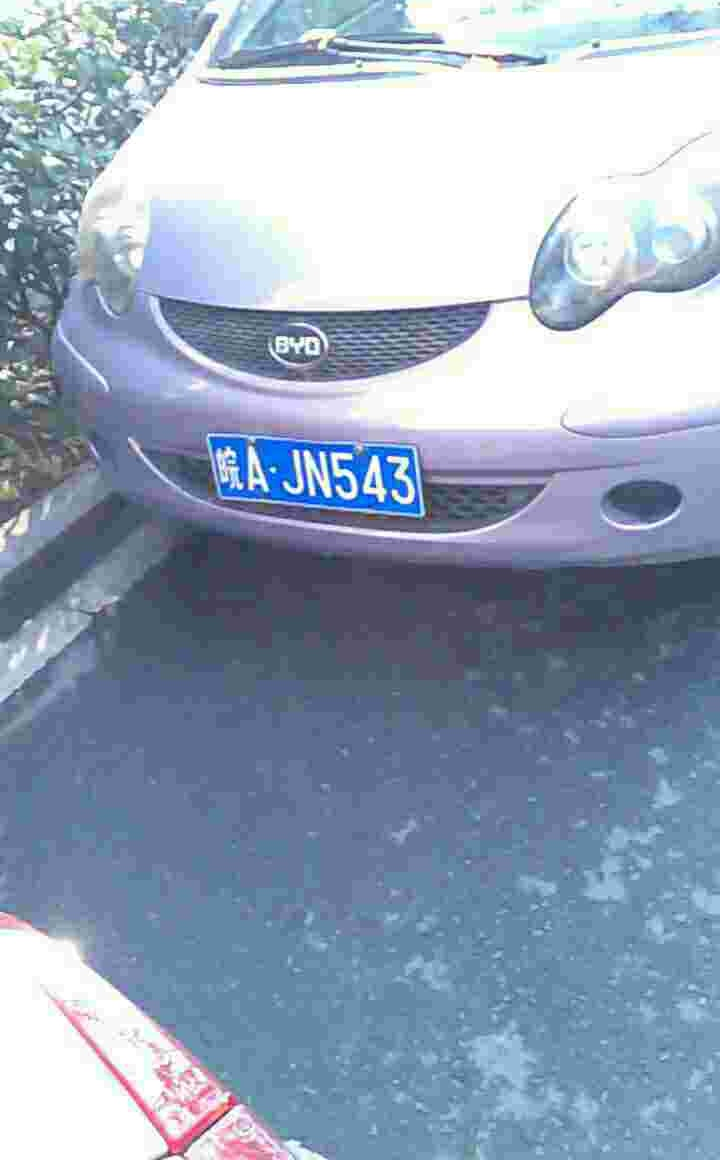car: (200, 430, 441, 523)
